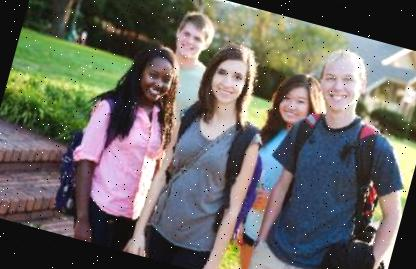person: (245, 36, 416, 269), (139, 25, 291, 269), (43, 23, 200, 257), (215, 55, 331, 269), (145, 0, 228, 122)
